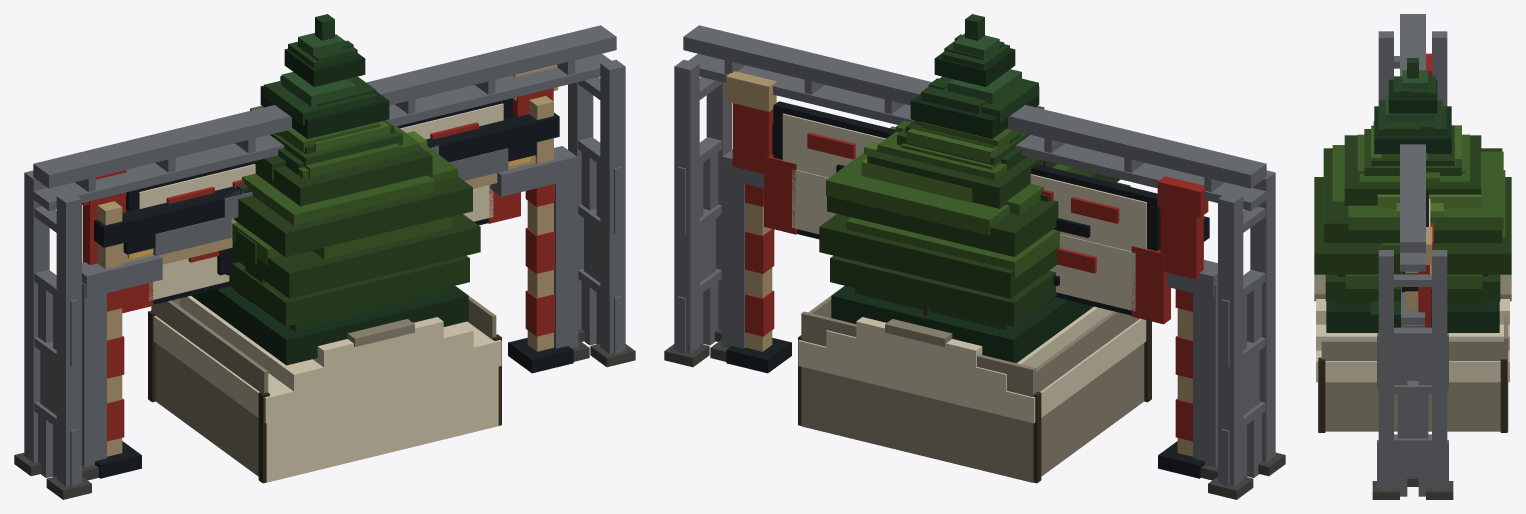
Rendered from props.glb.
The picture shows the model from 3 angles, left to right: view 1: azimuth 30°, elevation 25°; view 2: azimuth 150°, elevation 25°; view 3: azimuth 270°, elevation 25°; orthographic projection. The views are drawn at different scales.
Parts seen in each view (by area): view 1: prop_start_gantry, prop_marshal_tent, prop_tree_deciduous, prop_gate_checkpoint, prop_banner_arch, prop_tree_pine, prop_tree_birch; view 2: prop_start_gantry, prop_marshal_tent, prop_tree_deciduous, prop_banner_arch, prop_tree_pine, prop_gate_checkpoint, prop_tree_birch; view 3: prop_tree_deciduous, prop_start_gantry, prop_marshal_tent, prop_tree_pine, prop_banner_arch, prop_tree_birch, prop_gate_checkpoint.
Part boxes in pixels (left/top/right/bottom): prop_start_gantry: left=14, top=25, right=635, bottom=499; prop_marshal_tent: left=148, top=295, right=501, bottom=483; prop_tree_deciduous: left=228, top=107, right=480, bottom=326; prop_gate_checkpoint: left=82, top=65, right=573, bottom=478; prop_banner_arch: left=82, top=145, right=589, bottom=480; prop_tree_pine: left=191, top=14, right=468, bottom=365; prop_tree_birch: left=250, top=105, right=402, bottom=165; prop_start_gantry: left=664, top=25, right=1285, bottom=499; prop_marshal_tent: left=798, top=295, right=1151, bottom=483; prop_tree_deciduous: left=819, top=106, right=1130, bottom=326; prop_banner_arch: left=710, top=149, right=1217, bottom=480; prop_tree_pine: left=831, top=14, right=1093, bottom=363; prop_gate_checkpoint: left=726, top=71, right=1209, bottom=478; prop_tree_birch: left=897, top=128, right=1029, bottom=165; prop_tree_deciduous: left=1314, top=121, right=1511, bottom=301; prop_start_gantry: left=1372, top=14, right=1453, bottom=499; prop_marshal_tent: left=1314, top=274, right=1511, bottom=432; prop_tree_pine: left=1326, top=58, right=1499, bottom=332; prop_banner_arch: left=1401, top=265, right=1431, bottom=486; prop_tree_birch: left=1364, top=125, right=1461, bottom=244; prop_gate_checkpoint: left=1401, top=53, right=1432, bottom=309.
Size of the model in its own units: 14.32 by 9.45 by 5.2.
